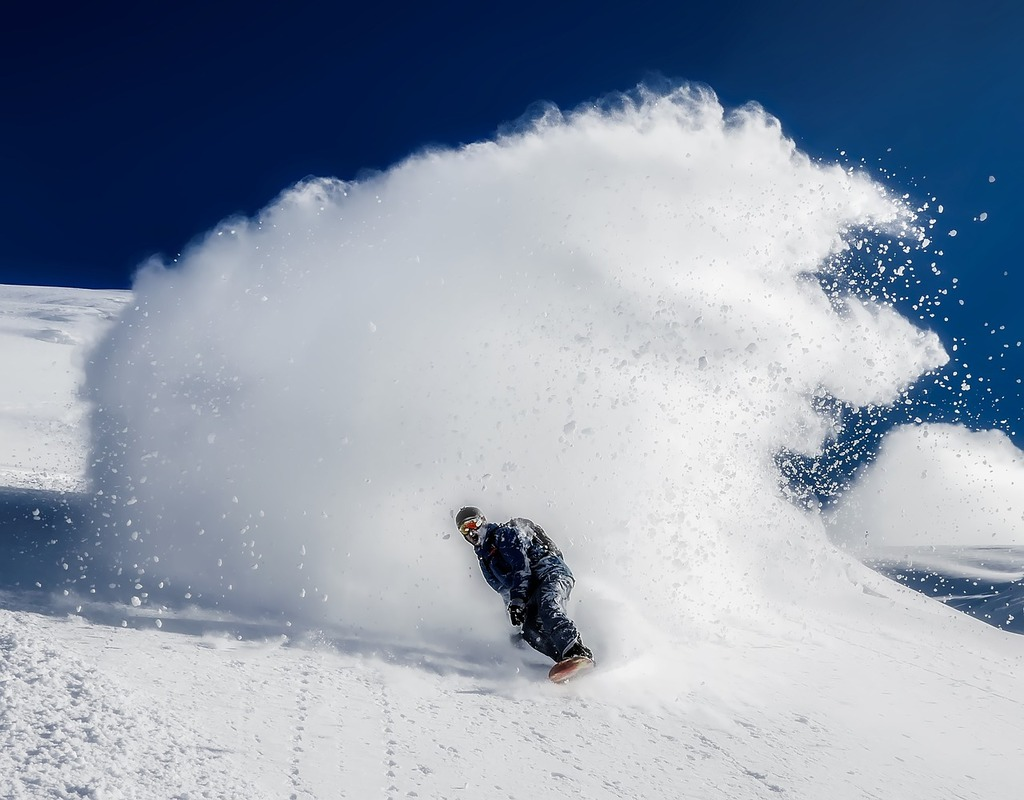snowboarder: (449, 504, 619, 685)
